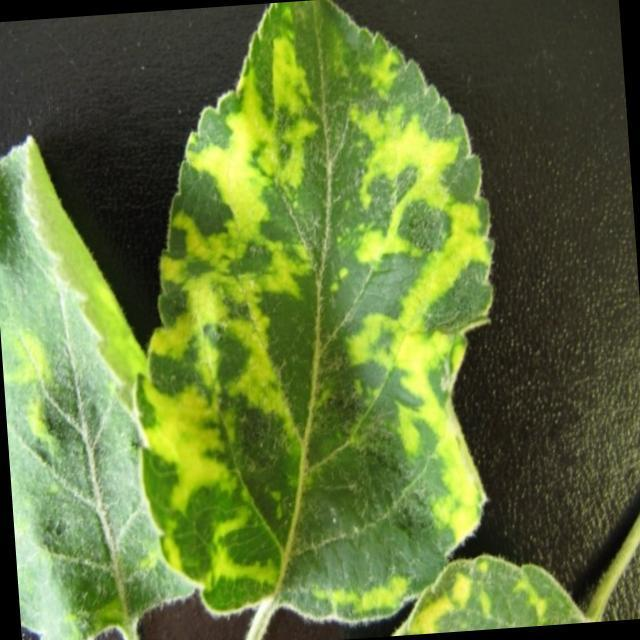Mosaic Virus: (126, 0, 506, 612), (402, 546, 592, 634)
